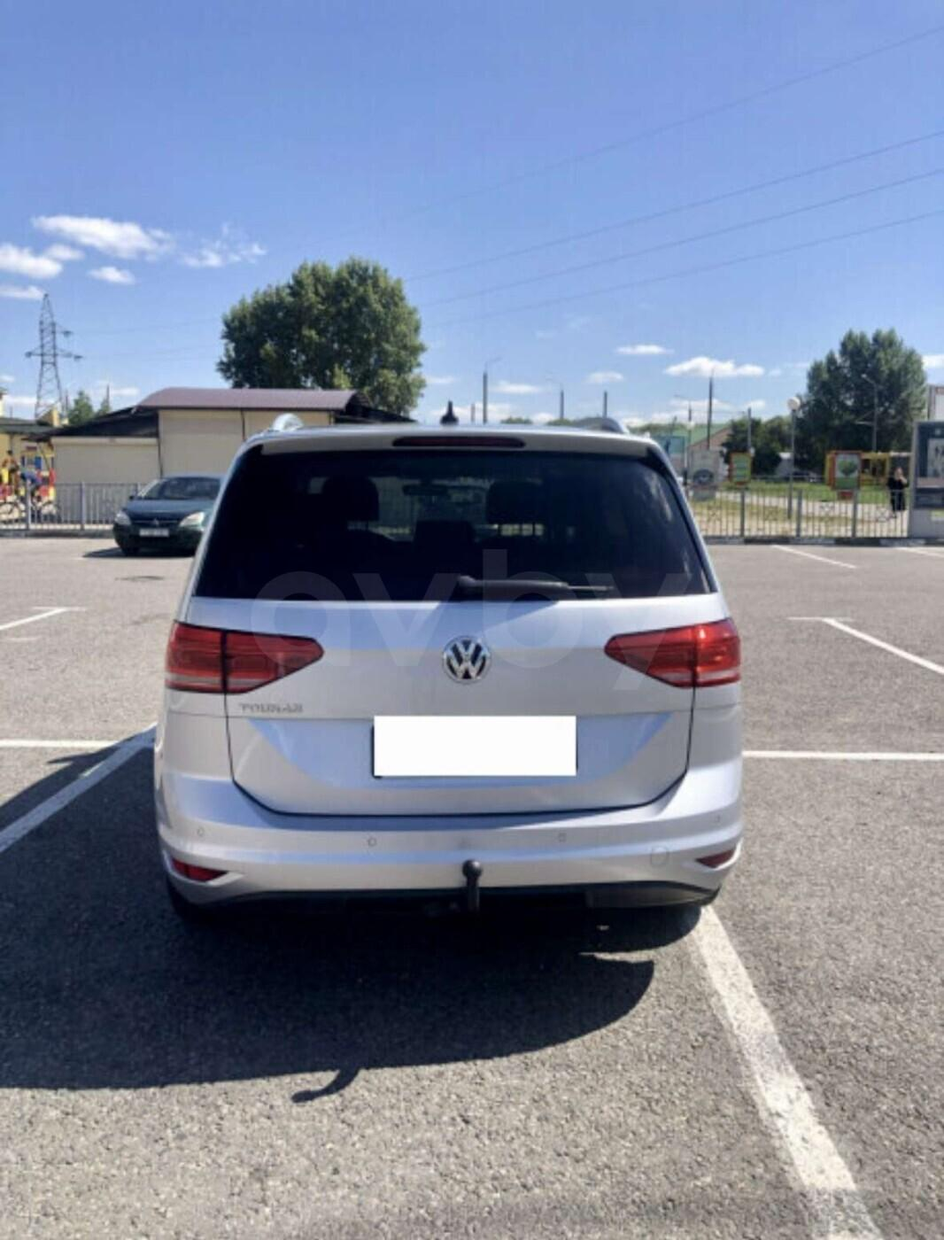Touran_2015: (152, 415, 751, 946)
